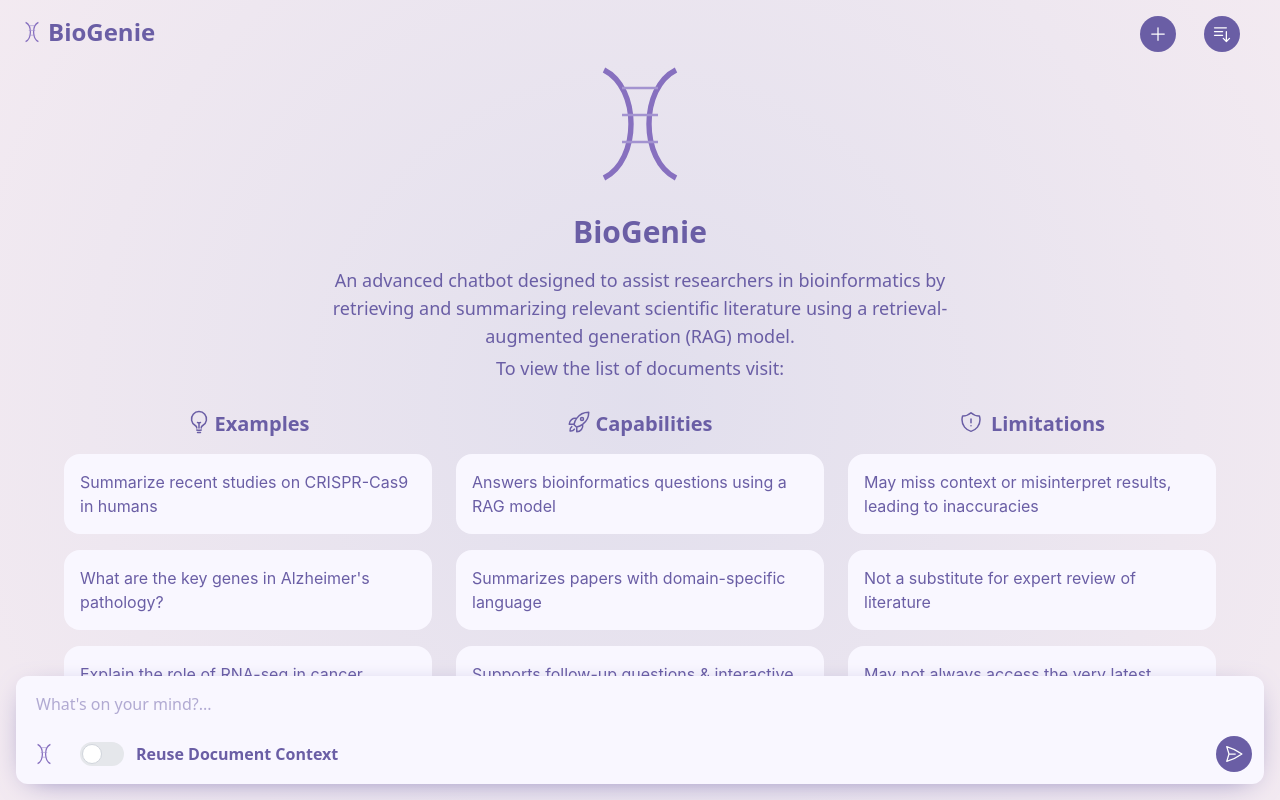
Test: Chat Page › submits a message and adds response
Note: Type a message
Type "Hello, chatbot!" into the text box with test id "input". click: (640, 712)
box: [28,692,1252,732]
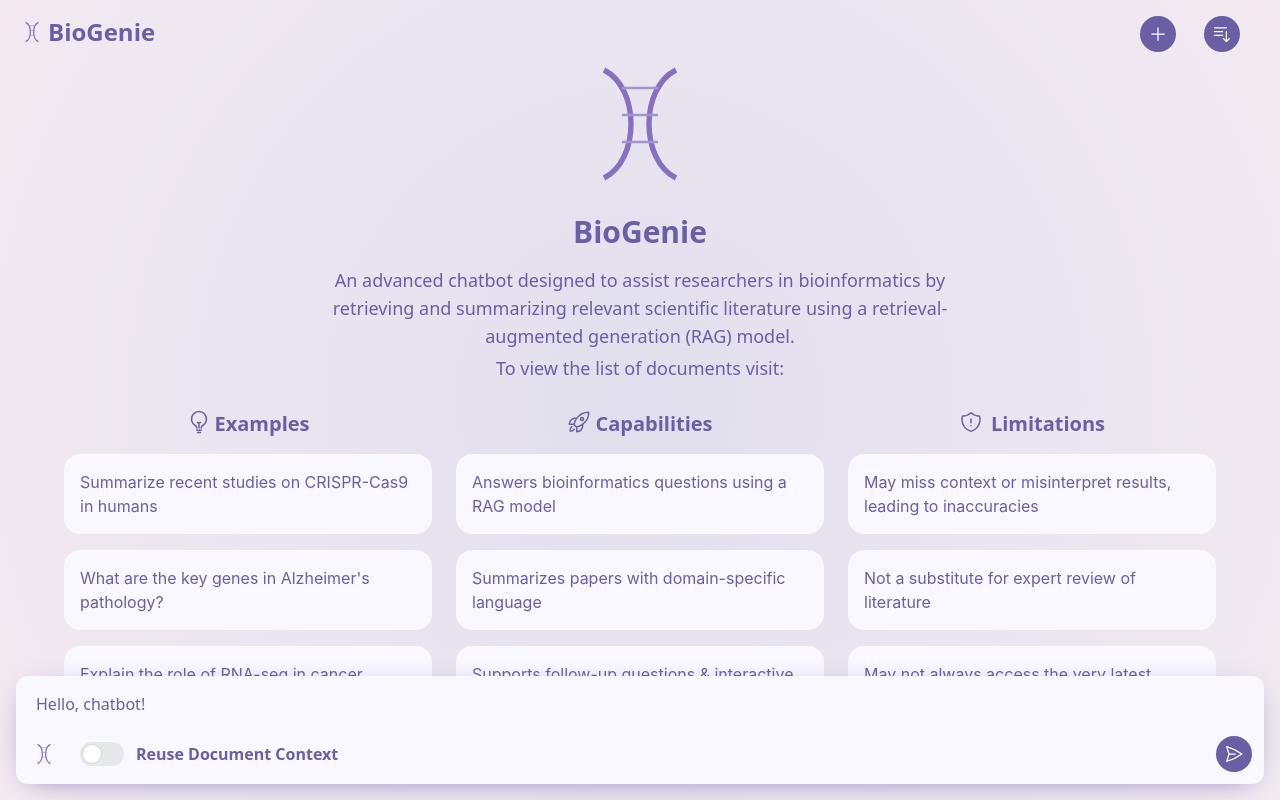
Note: Submit the message
Click the button with test id "submitButton". click: click(1234, 754)
box: [1216,736,1252,772]
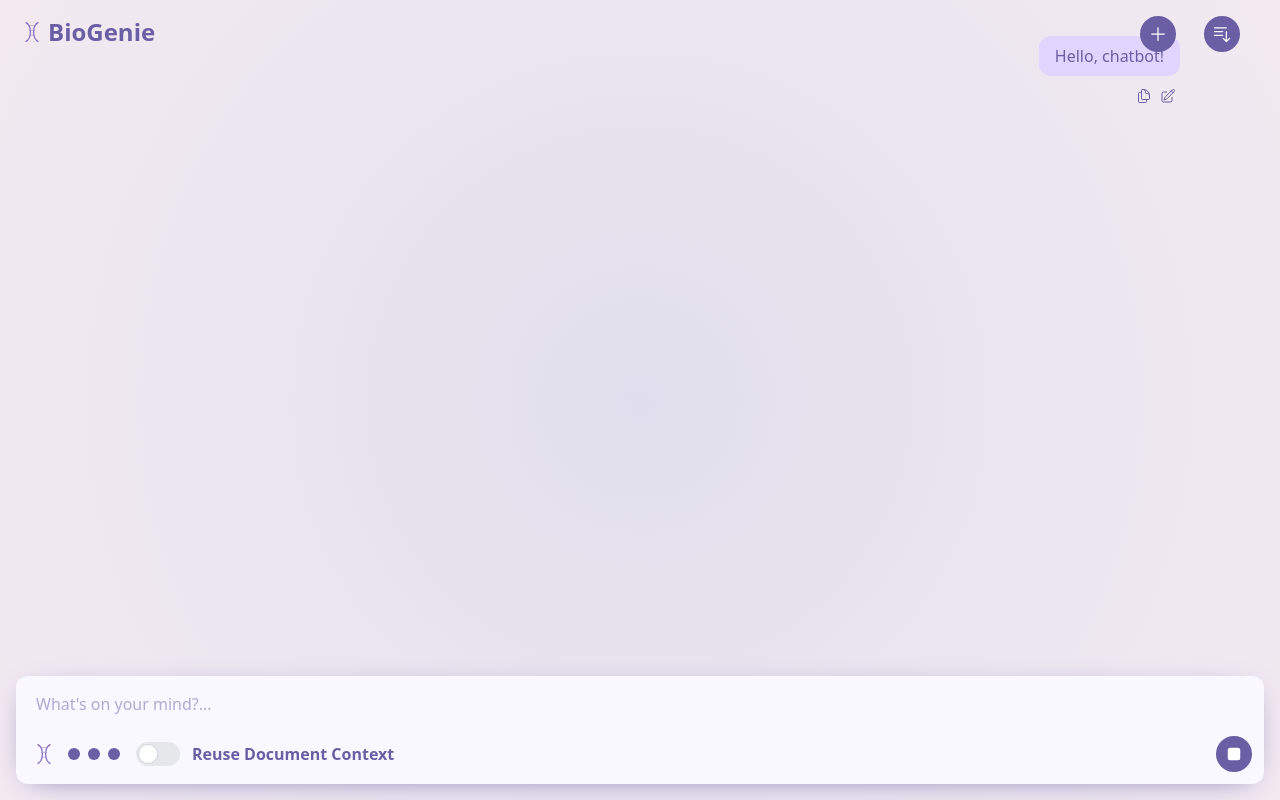
Now the element with test id "spinner" is shown, box [60,748,120,760]
Now the text "Hello, chatbot!" is shown, box [1055,44,1164,68]
Now the text box with test id "input" is empty, box [28,692,1252,732]
